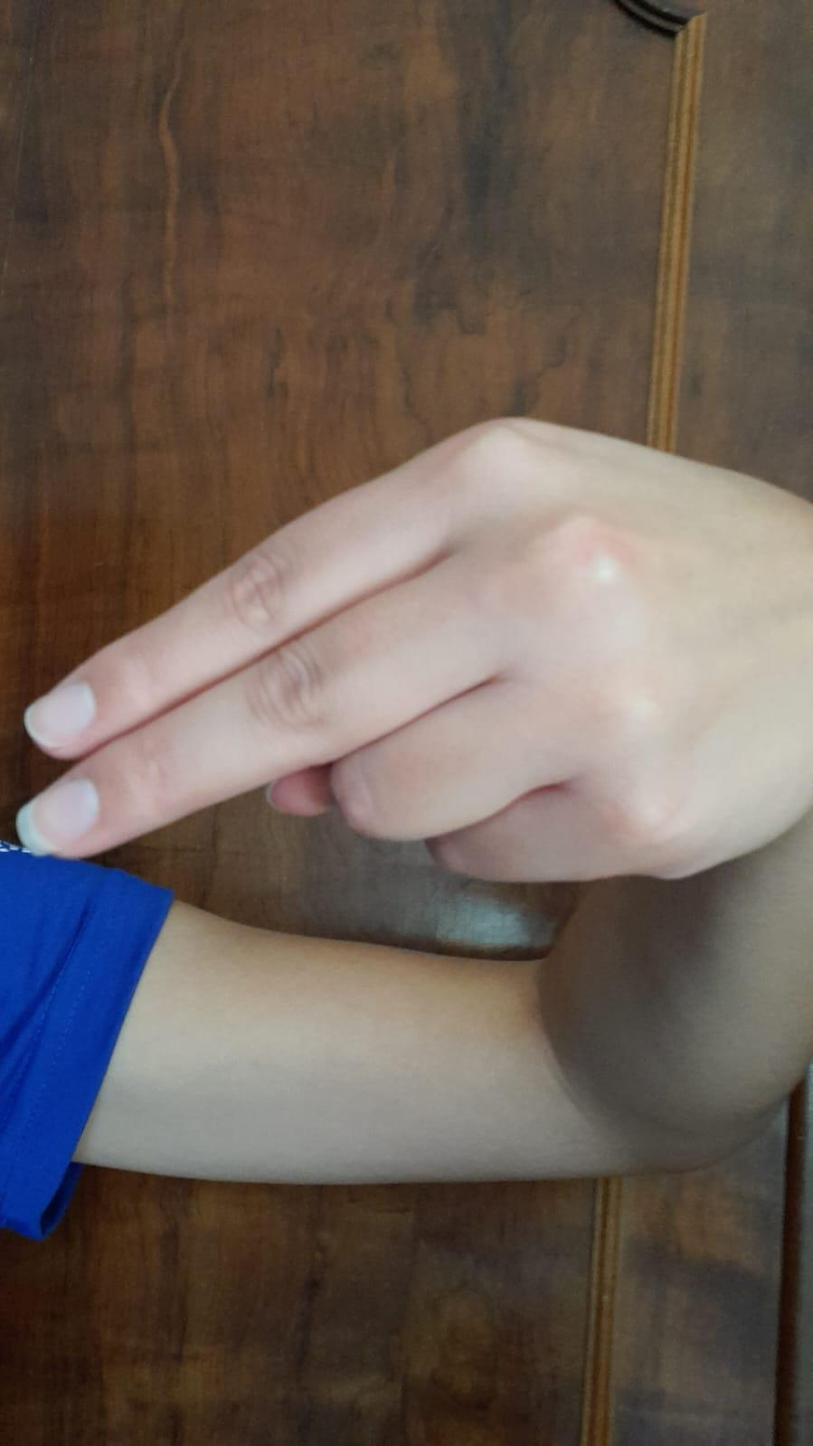N: (0, 380, 813, 940)
